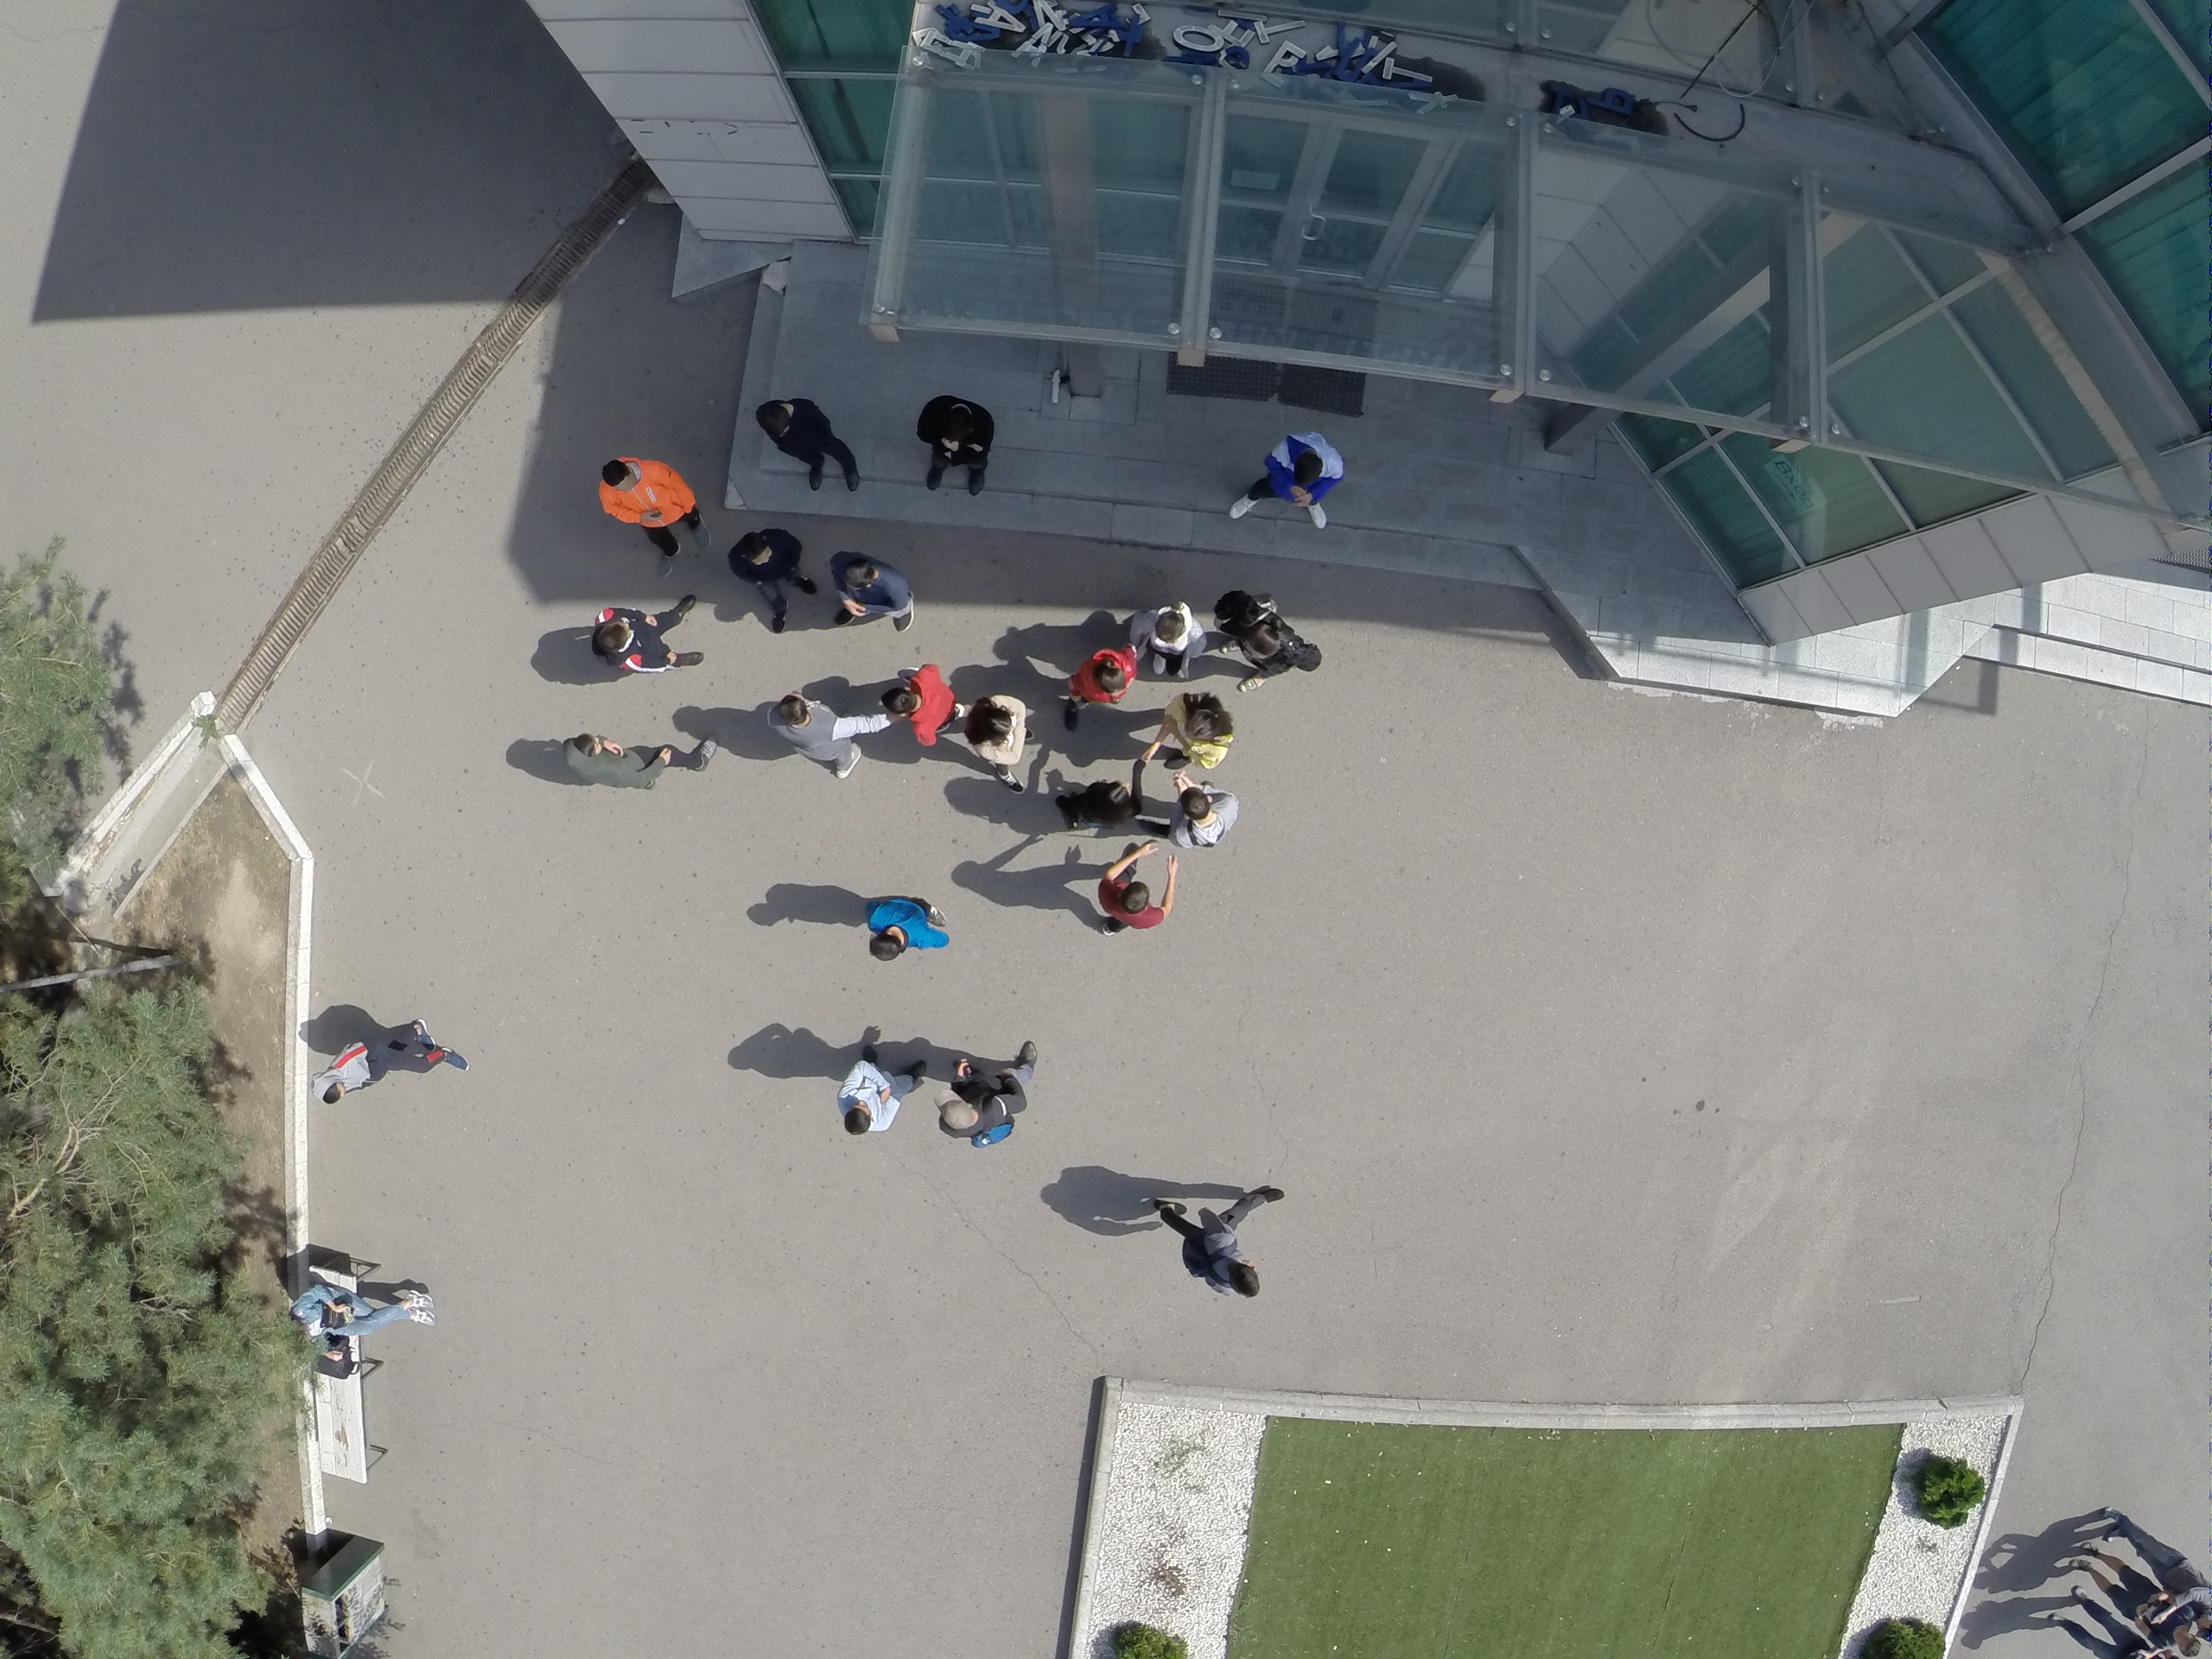person: (598, 451, 712, 575), (313, 1016, 471, 1106), (1219, 429, 1344, 533), (554, 718, 721, 793), (1210, 588, 1322, 696), (765, 684, 885, 780), (937, 1039, 1041, 1149), (724, 527, 820, 641), (828, 1040, 931, 1140), (755, 394, 861, 491), (588, 594, 710, 673), (1054, 741, 1151, 837), (289, 1281, 436, 1341), (914, 391, 996, 499), (1092, 841, 1176, 945), (828, 543, 915, 643), (883, 659, 967, 756), (966, 690, 1037, 800), (856, 893, 953, 969), (1150, 690, 1232, 772), (1129, 597, 1207, 680), (1166, 776, 1240, 862), (1059, 644, 1139, 718)
